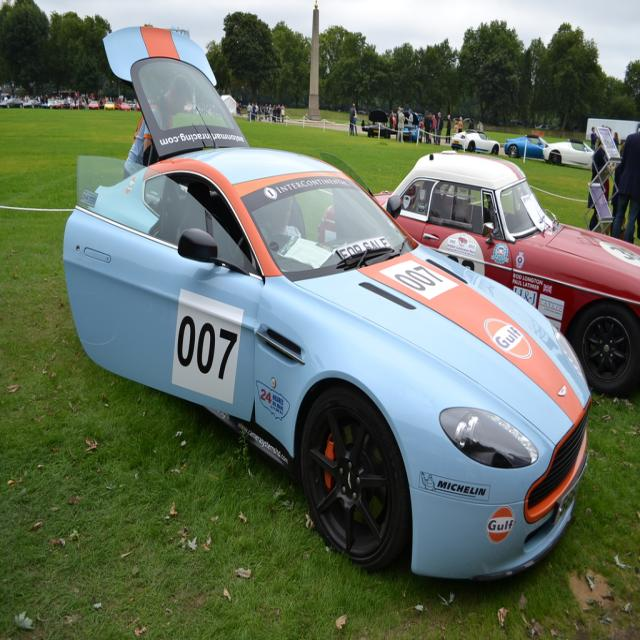car: (60, 24, 591, 593)
